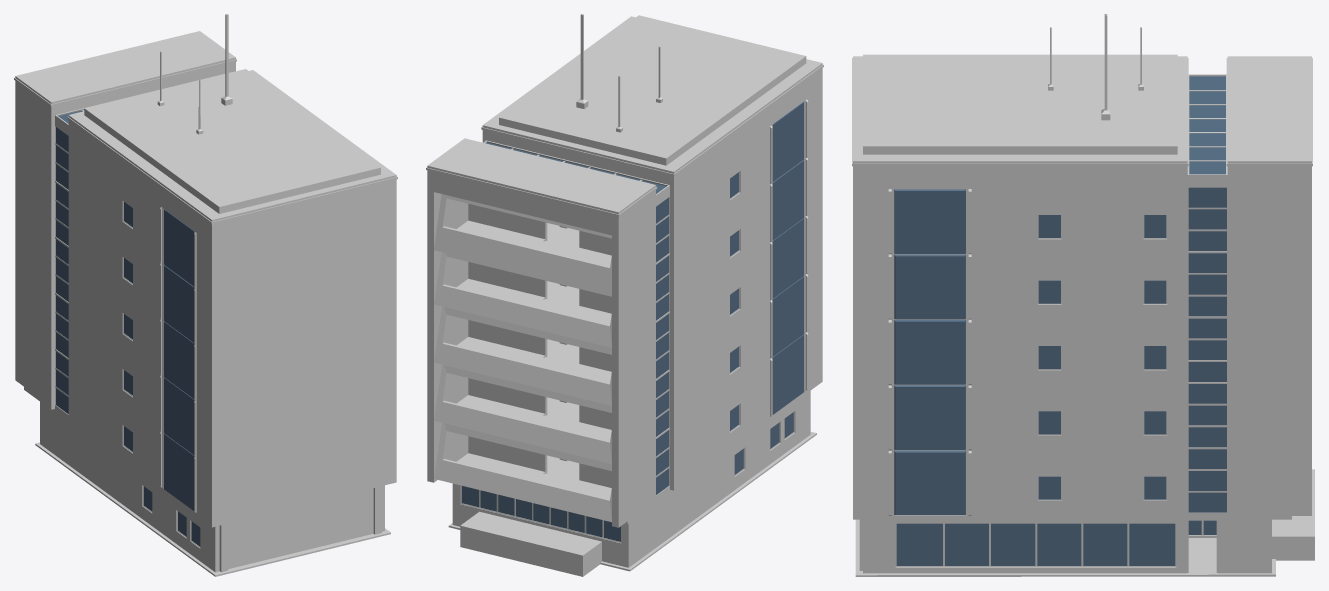
Rendered from res_03.glb.
3 renders of one model, left to right at view 1: azimuth 30°, elevation 25°; view 2: azimuth 150°, elevation 25°; view 3: azimuth 270°, elevation 25°, orthographic. The views are drawn at different scales.
Visible parts, largest first — view 1: Residential Buildings 003; view 2: Residential Buildings 003; view 3: Residential Buildings 003.
Boxes of the visible parts, bbox=[...] form: Residential Buildings 003: bbox=[14, 14, 397, 576]; Residential Buildings 003: bbox=[426, 14, 823, 576]; Residential Buildings 003: bbox=[852, 14, 1314, 576].
Size of the model in its own units: 12.59 by 29.19 by 23.1.
